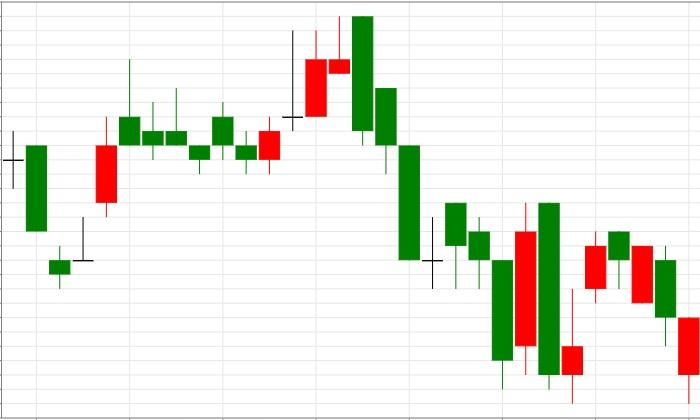bearish_engulfing_fall: (259, 16, 374, 175)
